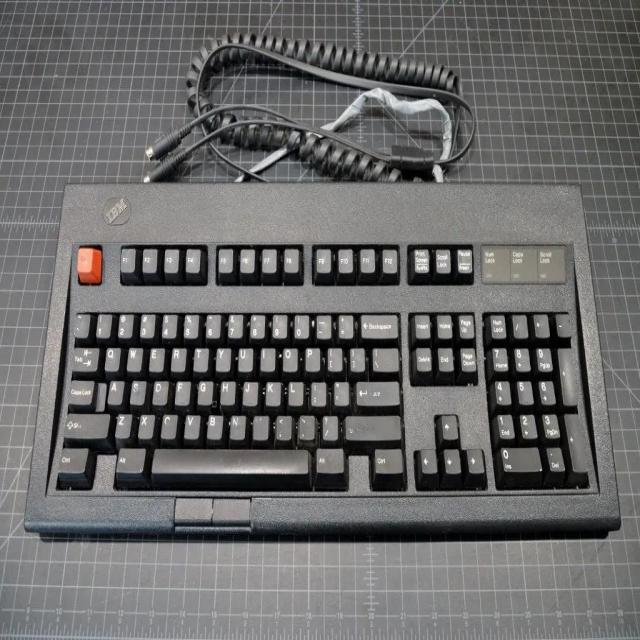keyboard: (20, 176, 623, 538)
